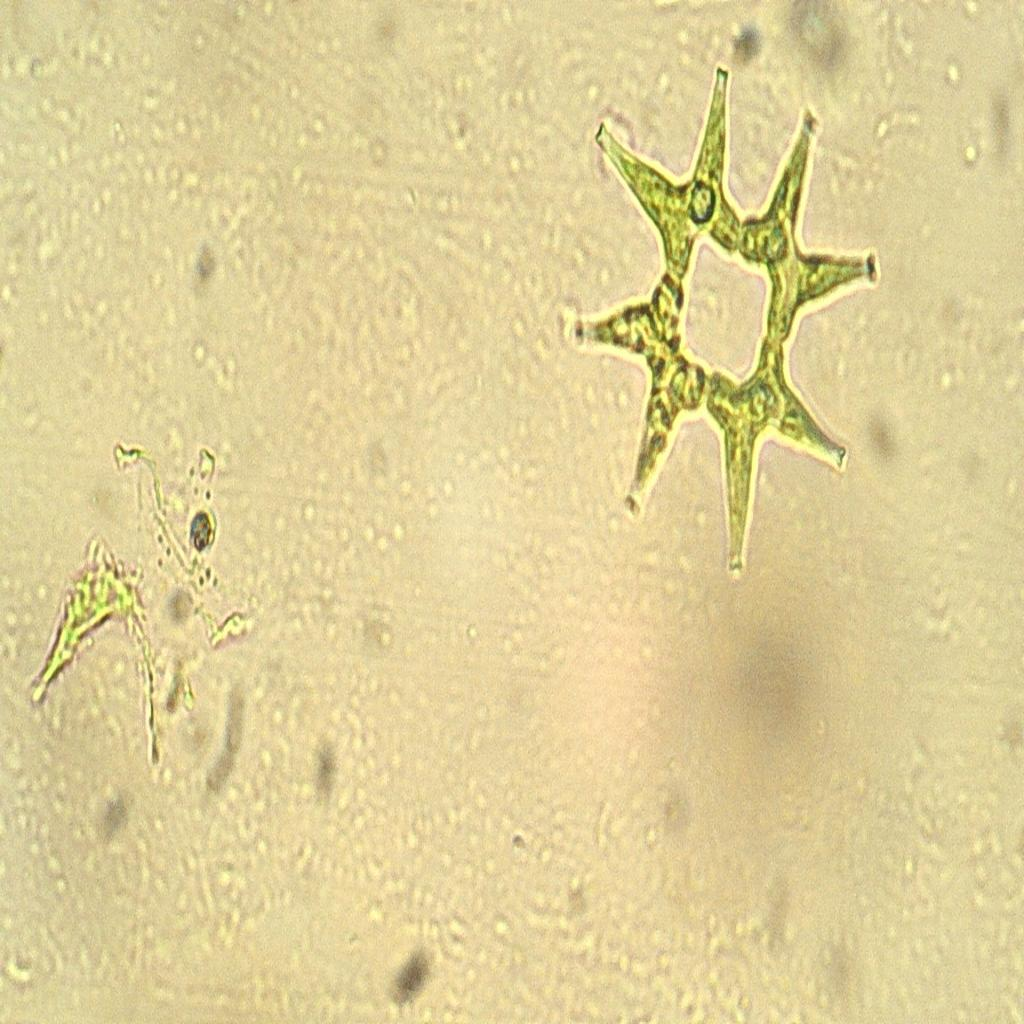Pediastrum_10: (530, 52, 898, 588)
